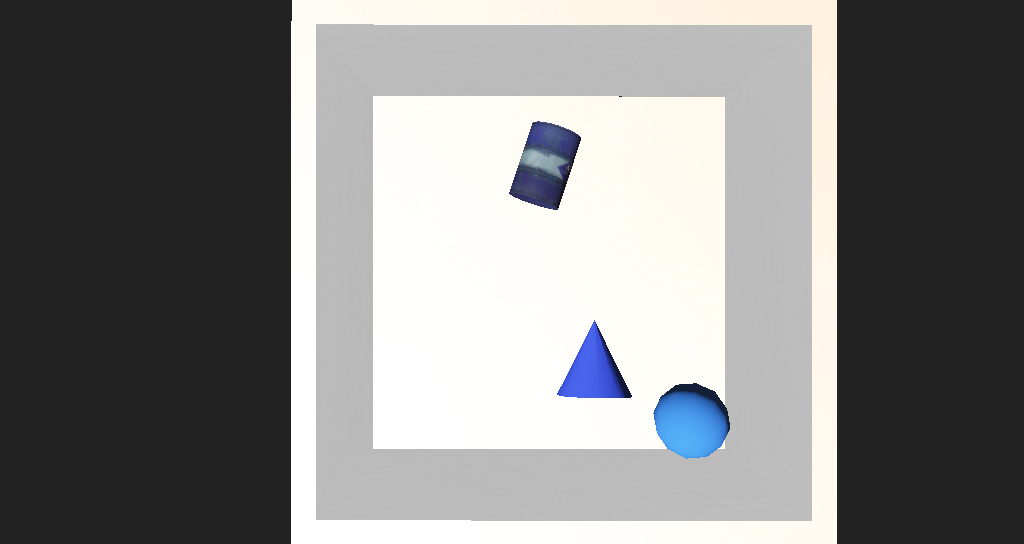cone: (475, 179, 536, 231)
cylinder: (515, 291, 576, 348)
sphere: (596, 336, 657, 379)
